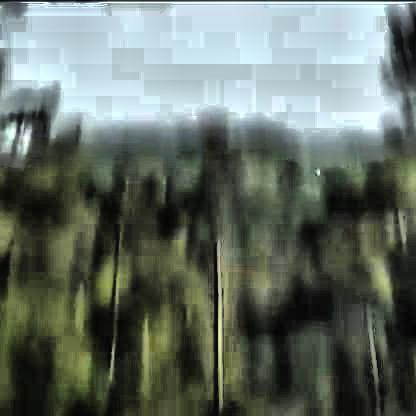golfball: (311, 161, 316, 171)
